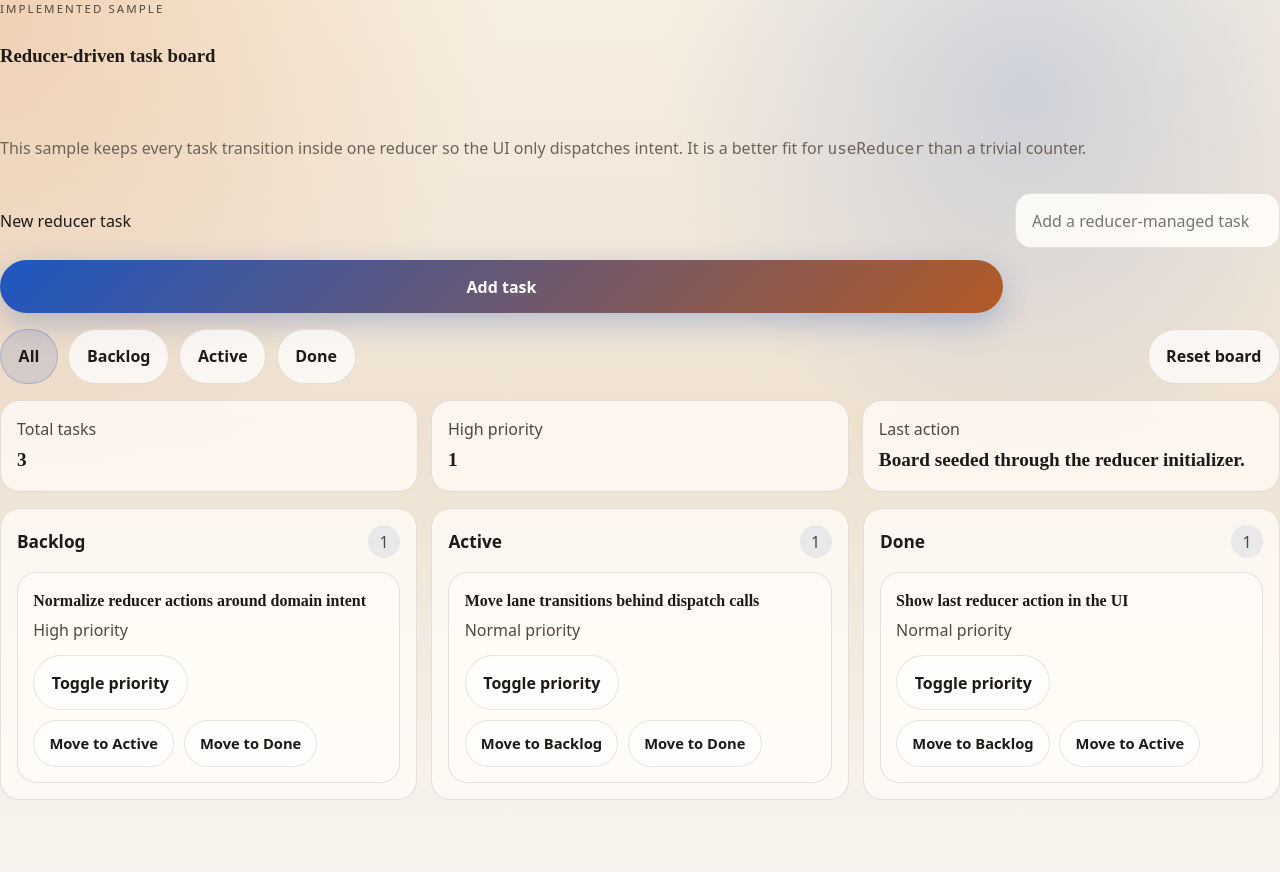
Test case: reducer board sample › adds a task, toggles priority, and filters the visible lanes
This screenshot has width=1280, height=872.
Type "Validate reducer board transitions" into the field labelled "New reducer task". click: (1148, 221)
box: [1015, 193, 1279, 248]
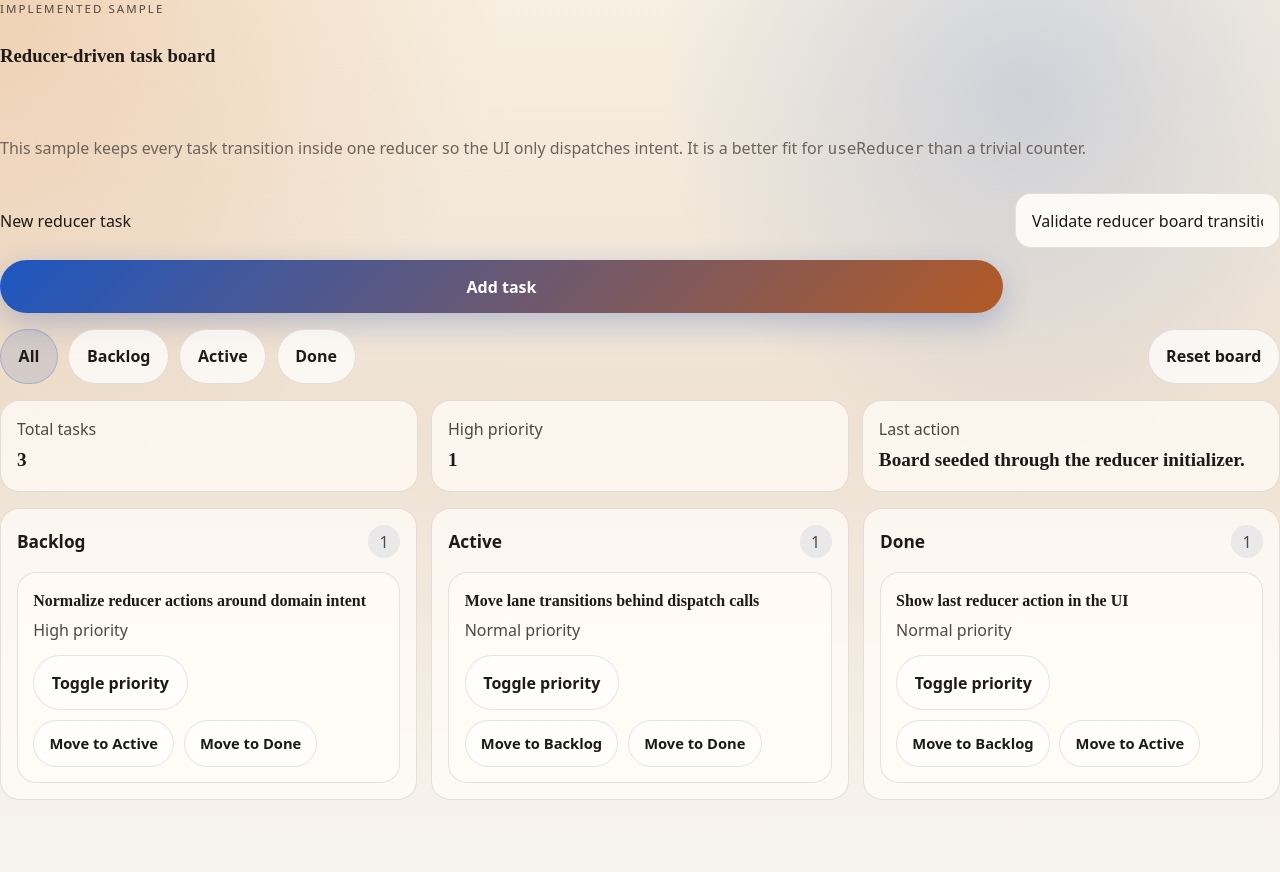
Click the button "Add task". click: (502, 287)
box: [0, 260, 1003, 313]
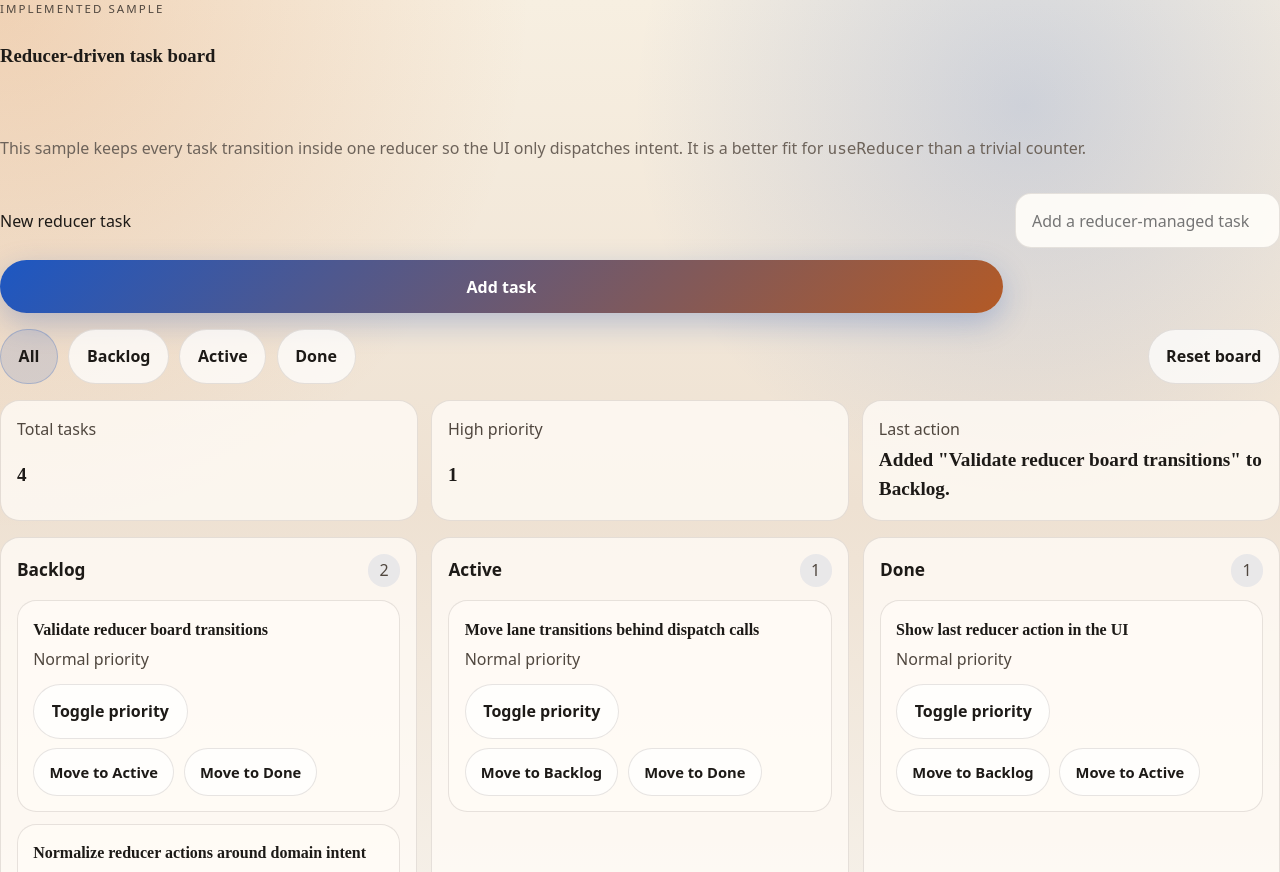
Check: the text "Validate reducer board transitions" is shown, box [33, 621, 268, 638]
Check: the 1st text "Normal priority" is shown, box [33, 648, 149, 670]
Check: the text "4" is shown, box [17, 464, 27, 485]
Click the 1st button "Toggle priority". click: (110, 711)
box: [33, 684, 188, 739]
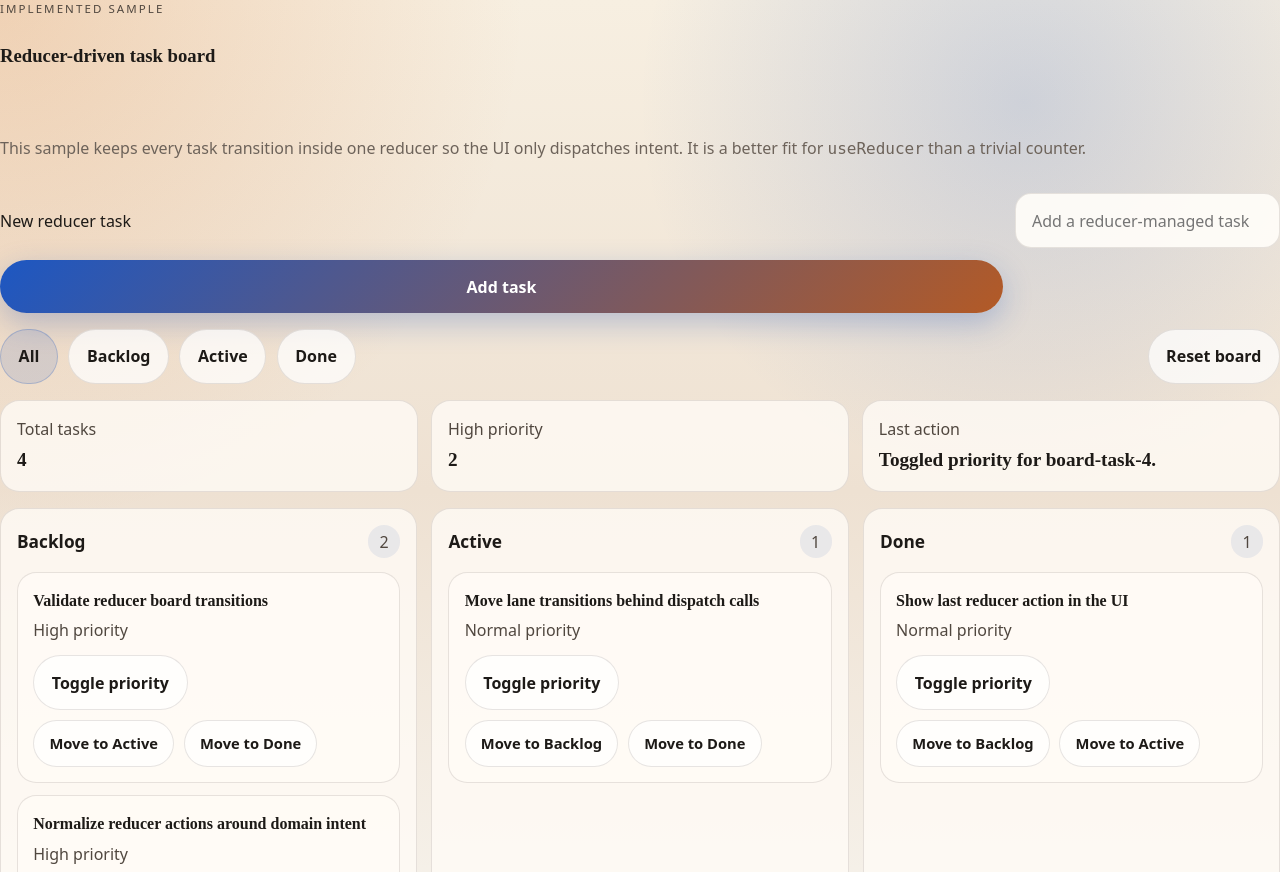
Check: the text "High priority" is shown, box [448, 418, 543, 440]
Check: the text "High priority" below "Validate reducer board transitions" is shown, box [33, 619, 128, 641]
Check: the text "2" next to "Toggled priority for board-task-4." is shown, box [448, 449, 458, 470]
Click the button "Done". click: (316, 356)
box: [277, 329, 356, 384]
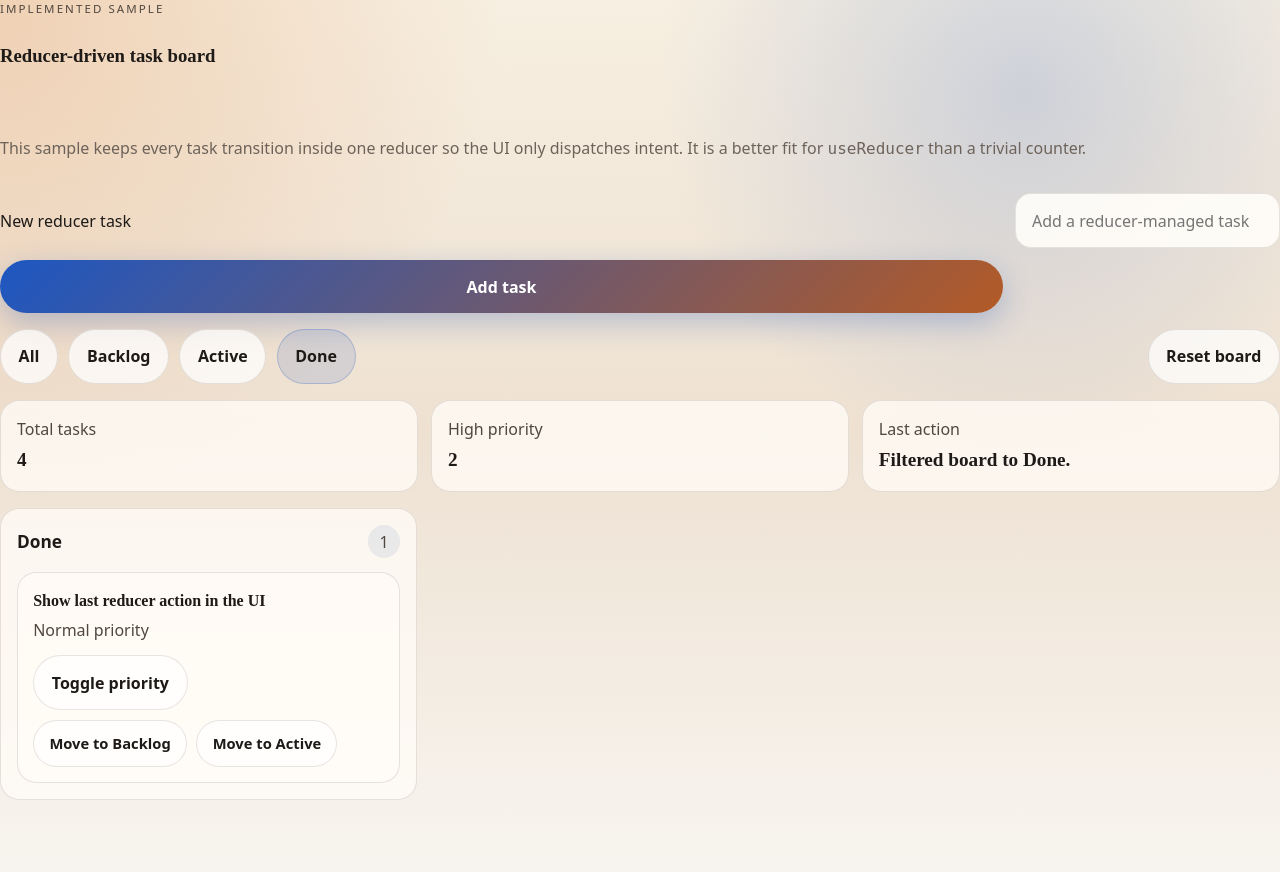
Check: the element "Done" is shown, box [0, 508, 417, 800]
Check: the text "Filtered board to Done." is shown, box [879, 449, 1070, 470]
